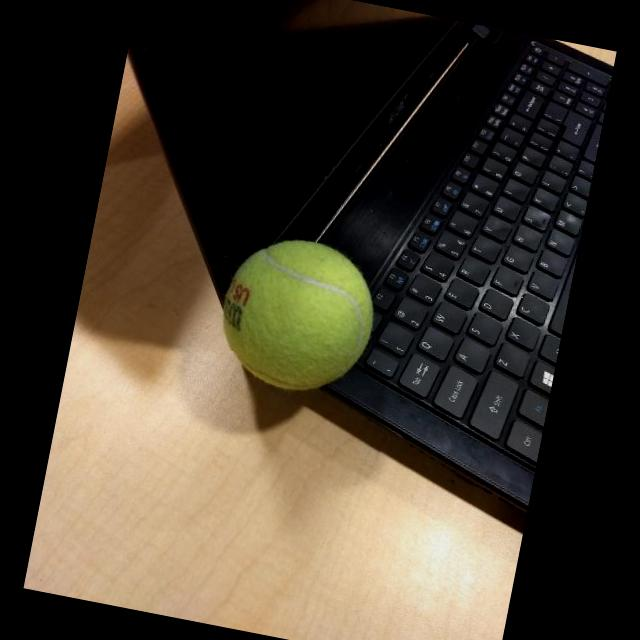tennis-ball: (206, 225, 388, 409)
